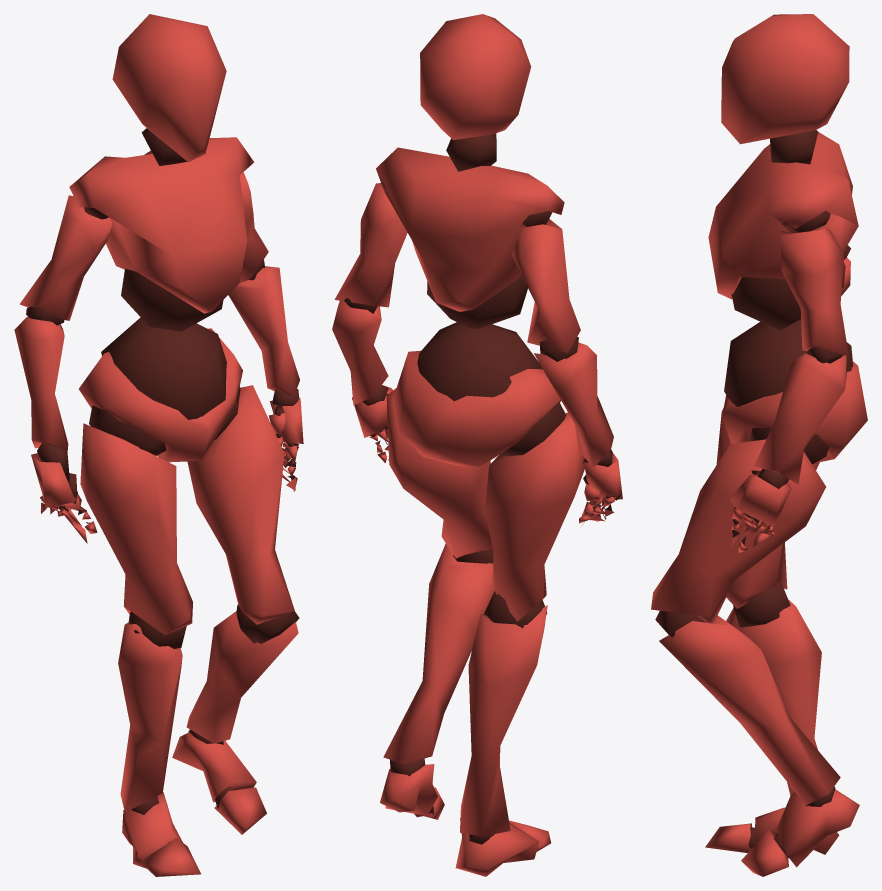
3 views of the same model, side by side, from view 1: azimuth 30°, elevation 25°; view 2: azimuth 150°, elevation 25°; view 3: azimuth 270°, elevation 25° (orthographic).
Parts seen in each view (by area): view 1: Beta_Surface; view 2: Beta_Surface; view 3: Beta_Surface.
Boxes of the visible parts, box(x1,y1,x2,y2) form: Beta_Surface: box(14, 14, 303, 876); Beta_Surface: box(332, 14, 622, 876); Beta_Surface: box(651, 14, 867, 876).
Size of the model in its own units: 4.77 by 14.47 by 3.37.
